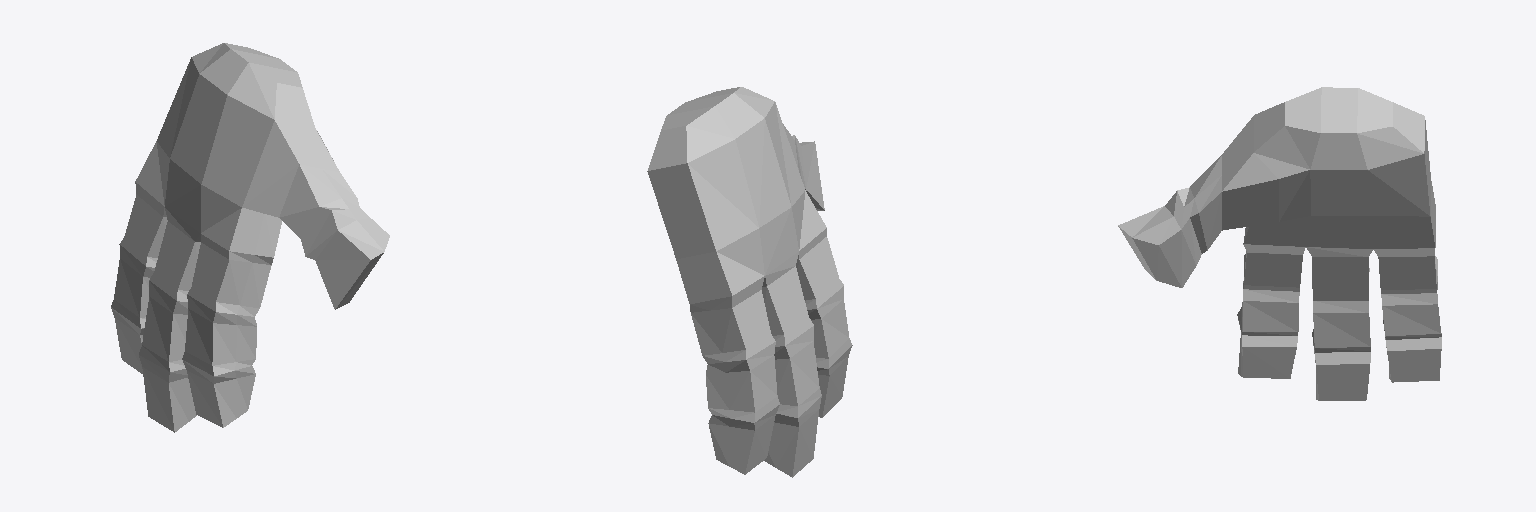
The model's file is Right-Hand.obj.
3 views of the same model, side by side, from view 1: azimuth 30°, elevation 25°; view 2: azimuth 150°, elevation 25°; view 3: azimuth 270°, elevation 25° (orthographic).
Visible parts, largest first — view 1: Right-hand_R02.003; view 2: Right-hand_R02.003; view 3: Right-hand_R02.003.
Part boxes in pixels (bbox=[...]): Right-hand_R02.003: bbox=[111, 43, 389, 432]; Right-hand_R02.003: bbox=[647, 87, 852, 477]; Right-hand_R02.003: bbox=[1118, 87, 1441, 400].
Bounding box in the file's own units: 0.9716 × 2.21 × 1.85.